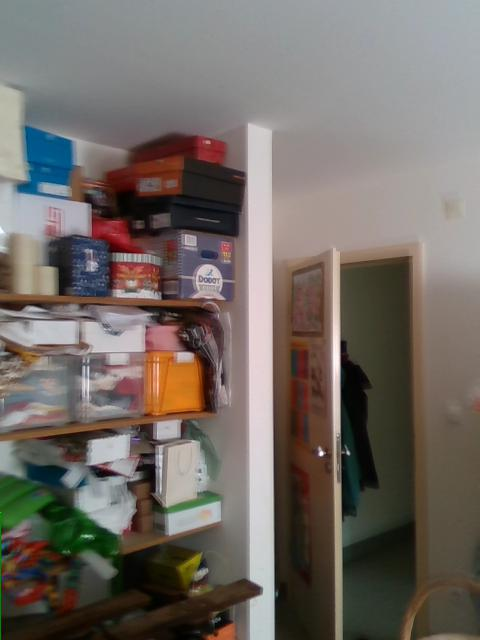semi_door: (277, 237, 427, 639)
